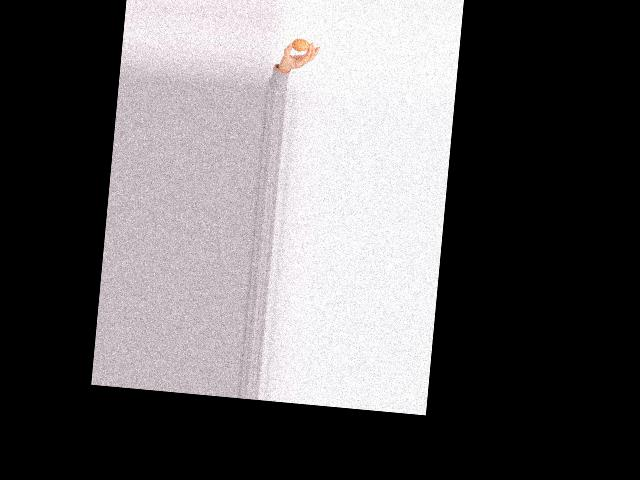egg: (291, 37, 310, 51)
